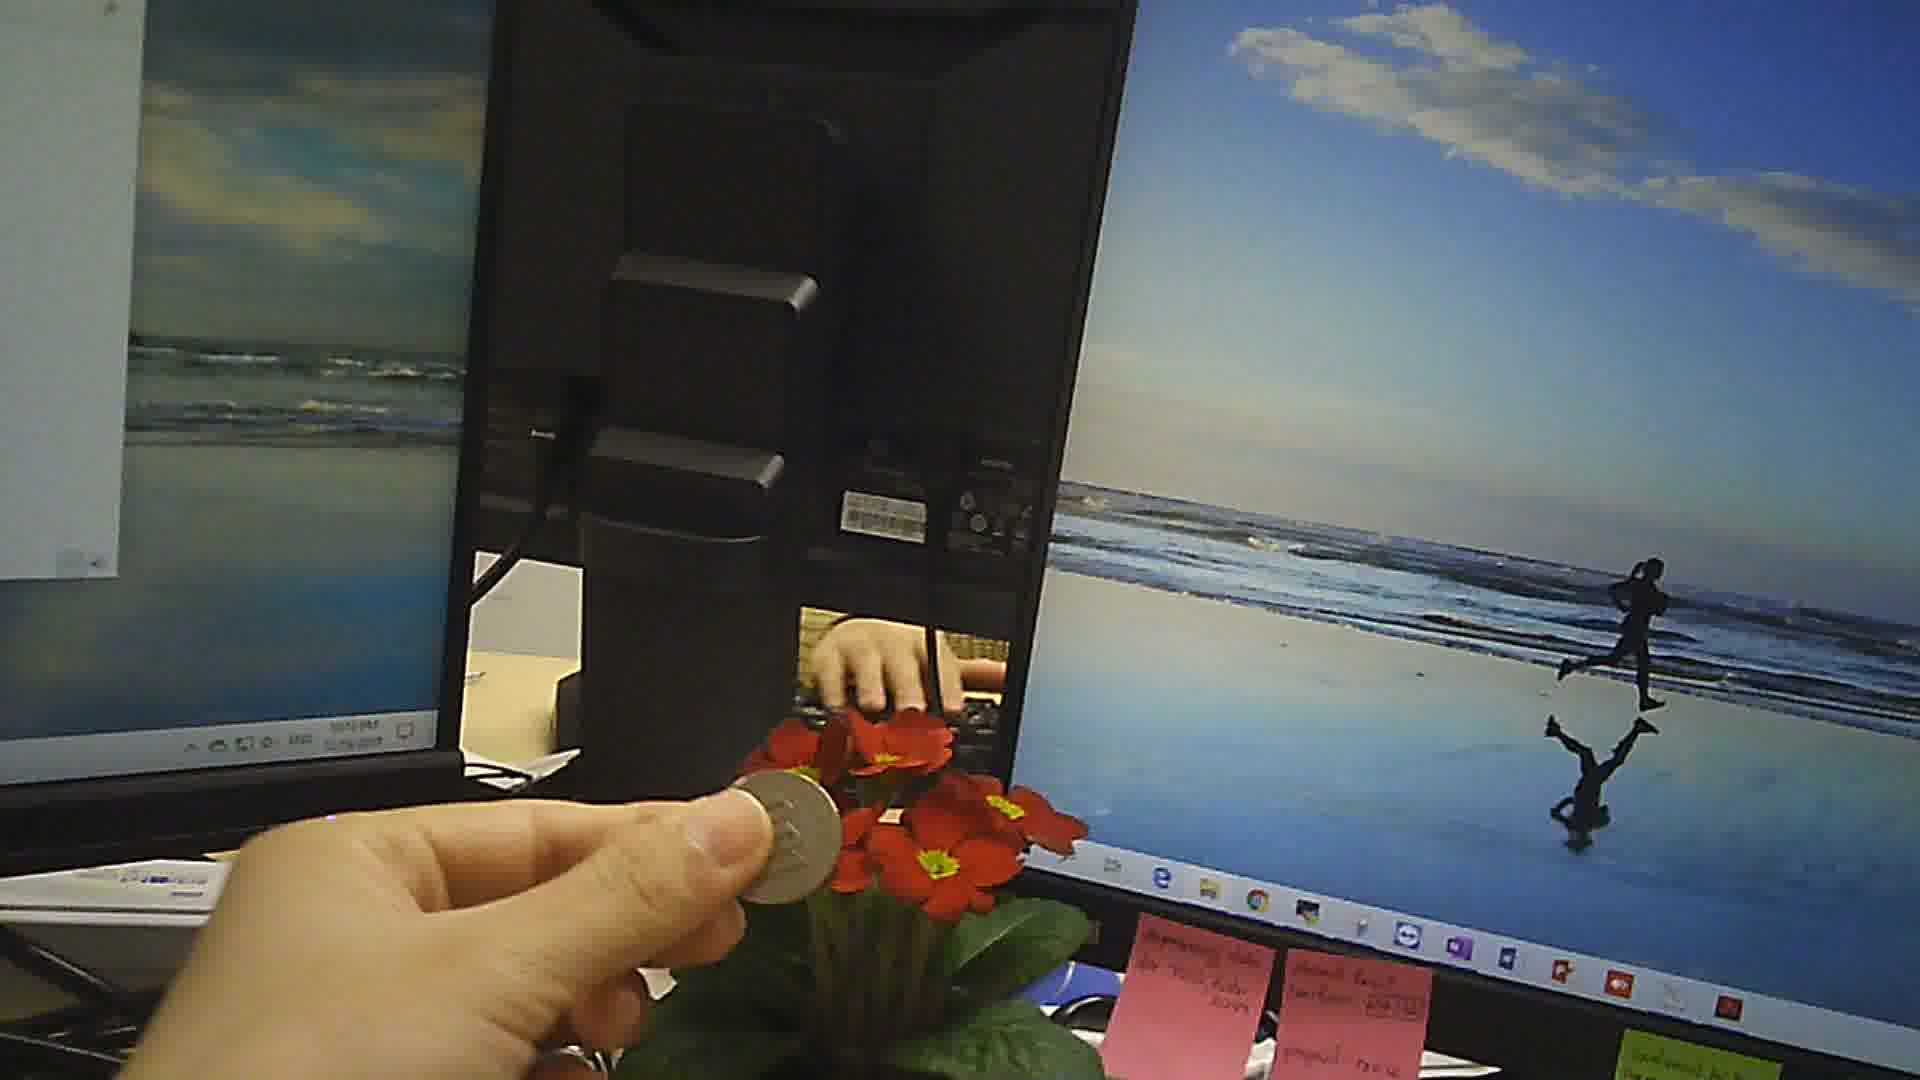100 Yen: (711, 766, 836, 903)
